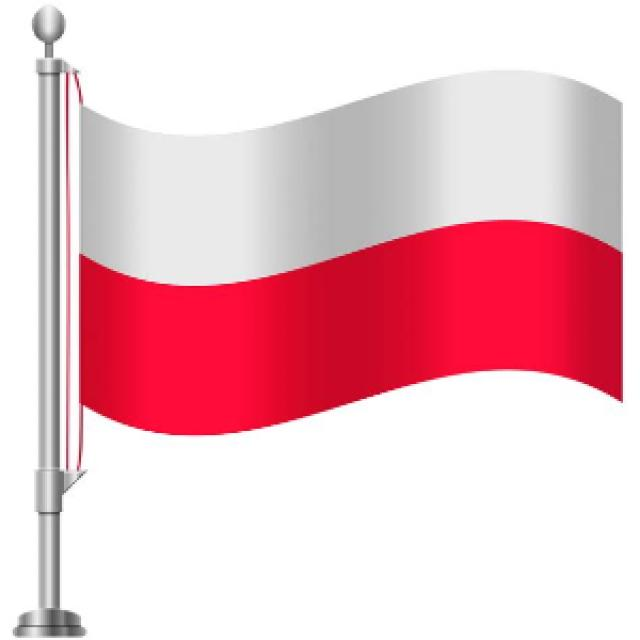poland: (32, 4, 628, 421)
